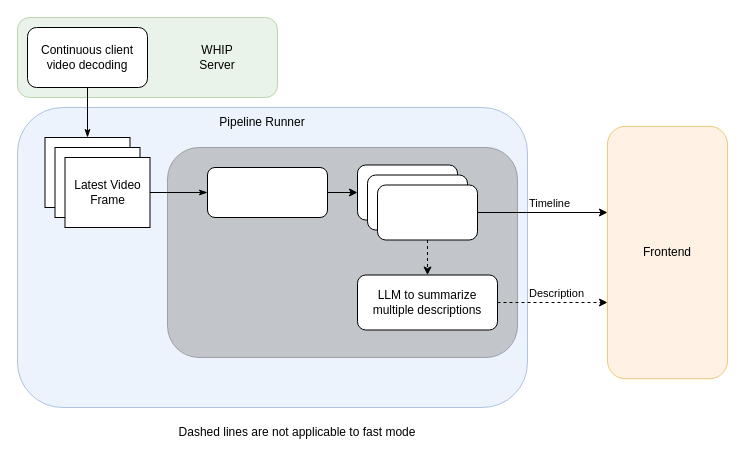
Image size: 745x465. Some labels were removed from this diagram. The centre of each missing label's shape, as x and y in pixels:
"Image-to-Text ML Inference" goes at [427,212].
"Similarity Detection to previous Frames" goes at [267,192].
